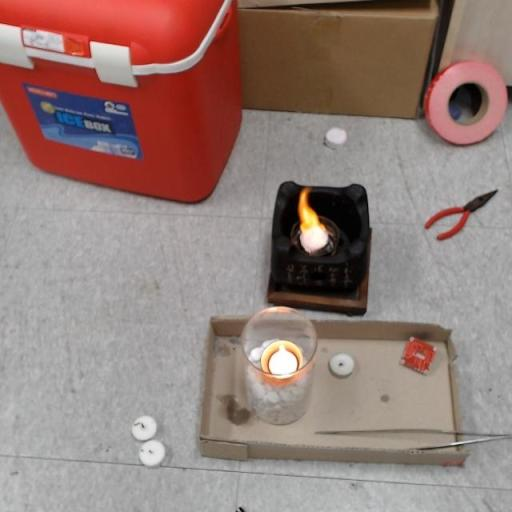smoke: (291, 180, 329, 247), (266, 339, 296, 370)
